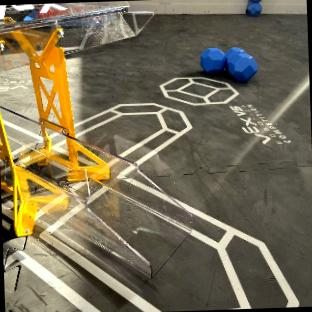Med_goal: (0, 1, 203, 278)
V5_BLUE: (200, 47, 256, 81)
